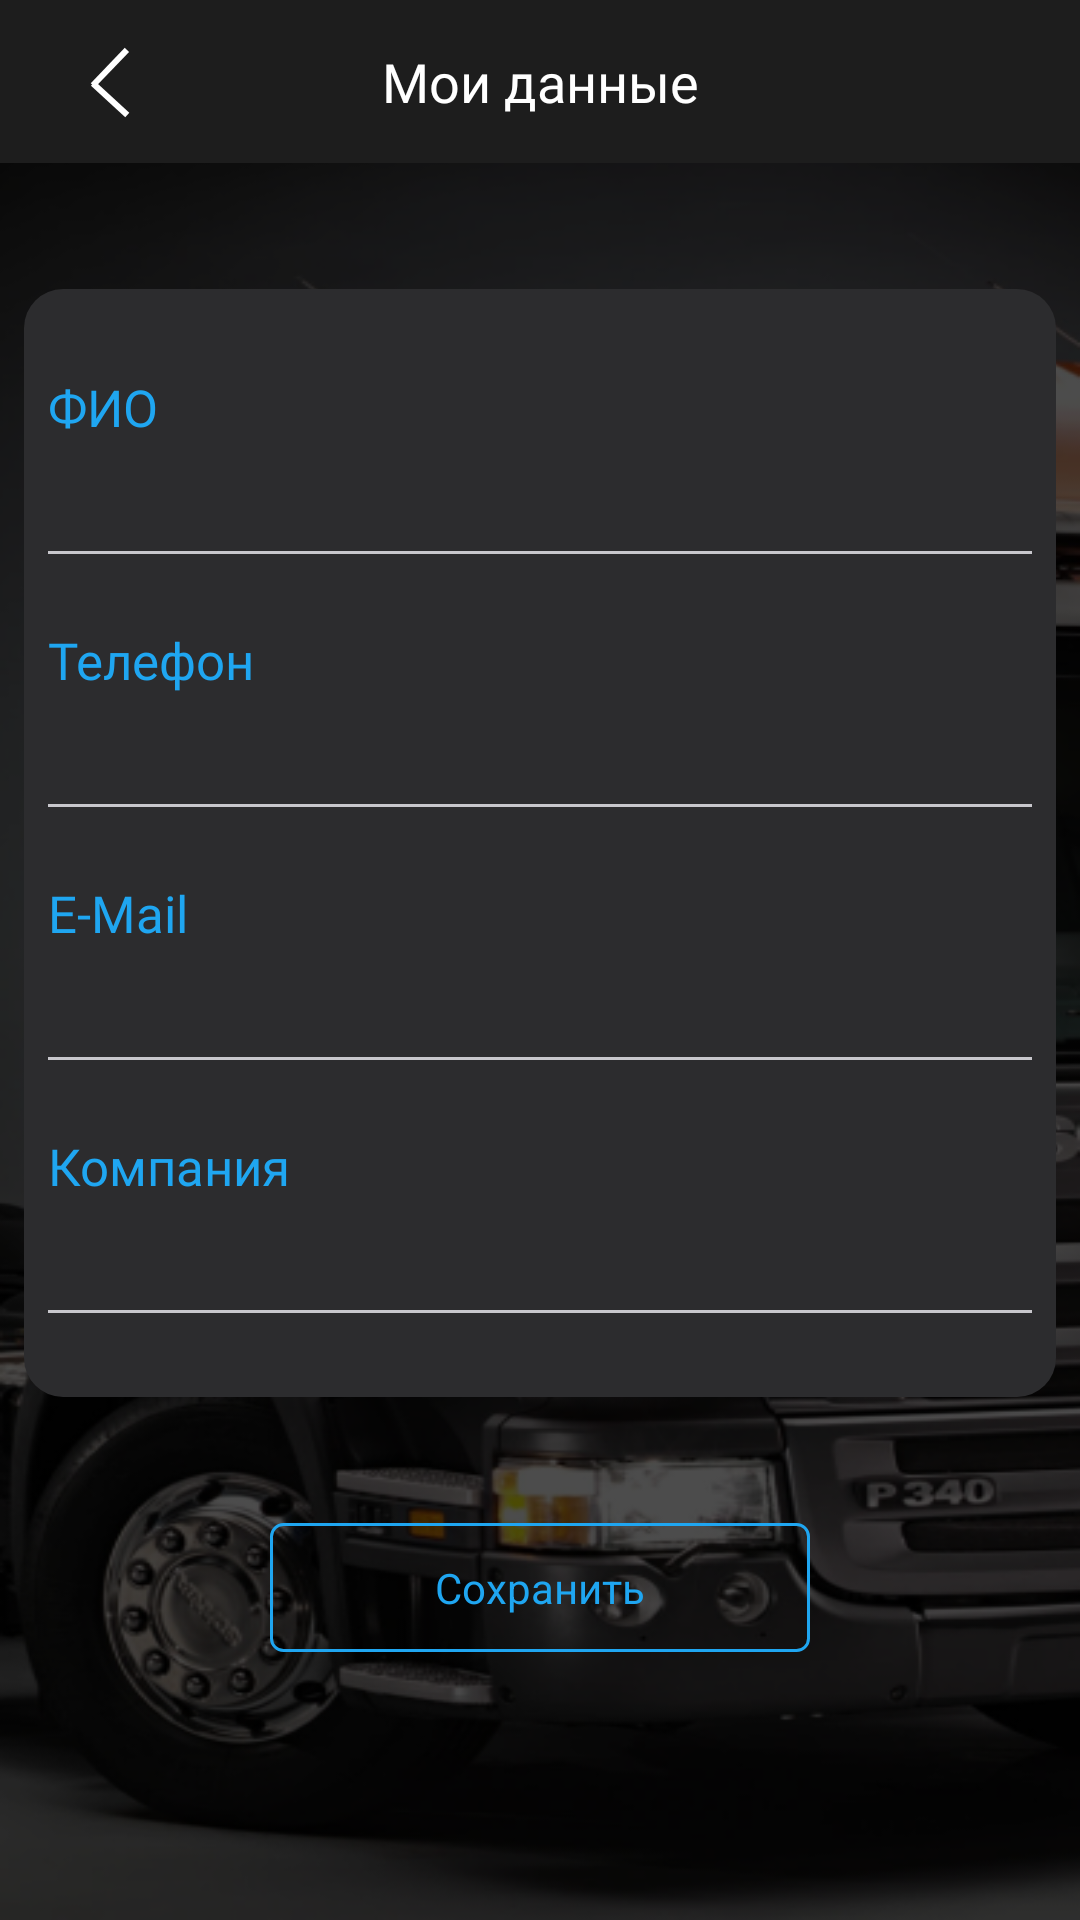

Locate icon controls on the screen. Image size 1080w x 1920h, boxes as (x1, y1, x2, y2).
back: (91, 48, 129, 117)
